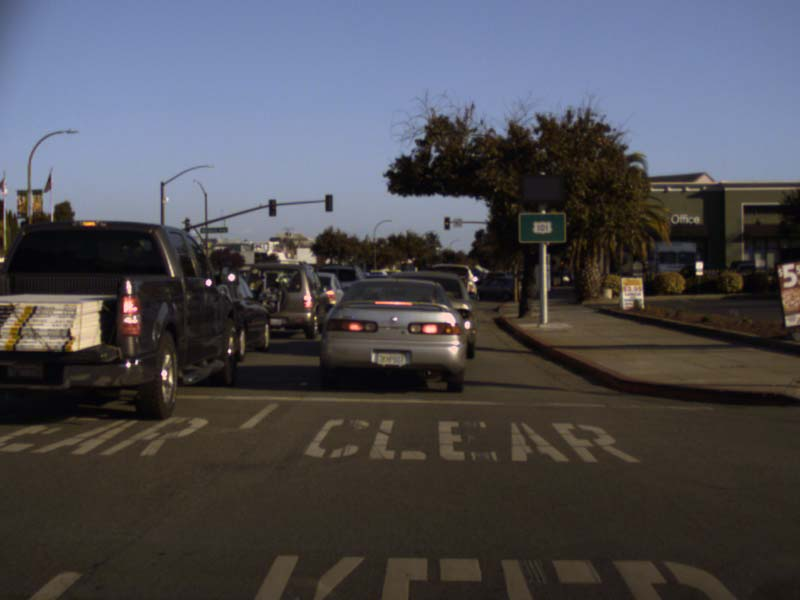Yellow: (444, 217, 449, 228)
